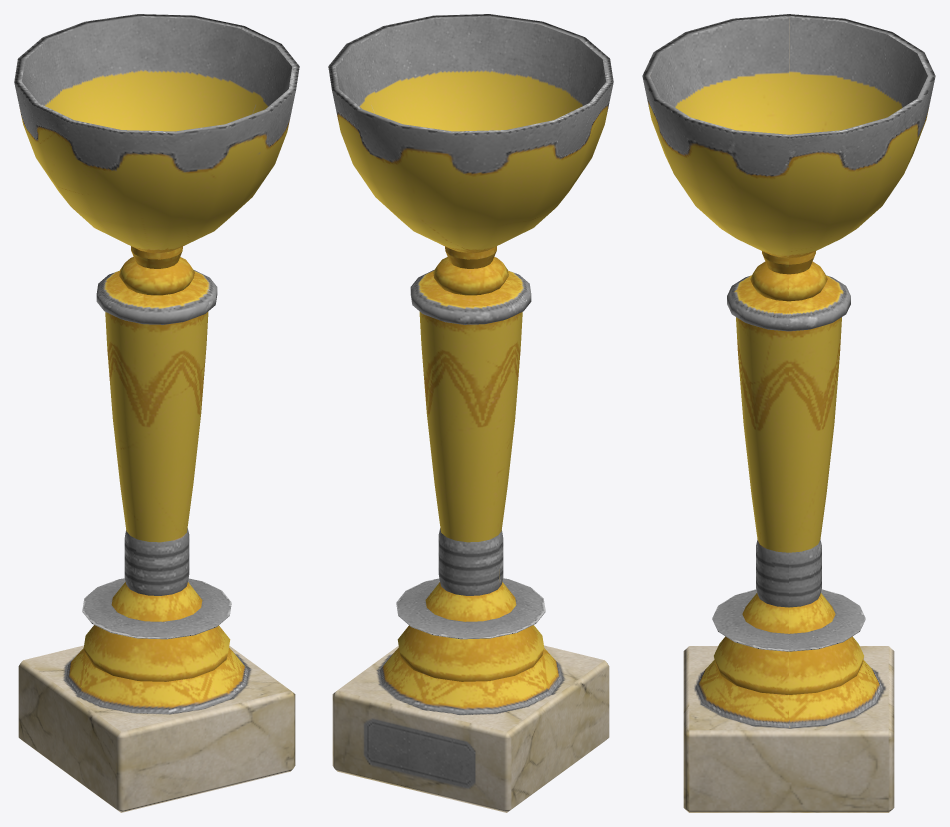
File: boxing_trophy_cup.fbx
The picture shows the model from 3 angles, left to right: view 1: azimuth 30°, elevation 25°; view 2: azimuth 150°, elevation 25°; view 3: azimuth 270°, elevation 25°; orthographic projection.
Visible parts, largest first — view 1: boxing_trophy_cup_LOD0; view 2: boxing_trophy_cup_LOD0; view 3: boxing_trophy_cup_LOD0.
Part boxes in pixels (x1=…): boxing_trophy_cup_LOD0: x1=14, y1=14, x2=299, y2=812; boxing_trophy_cup_LOD0: x1=328, y1=14, x2=613, y2=812; boxing_trophy_cup_LOD0: x1=642, y1=14, x2=935, y2=812.
Size of what is drawn, in the model's own units: 0.1154 by 0.3016 by 0.1154.
